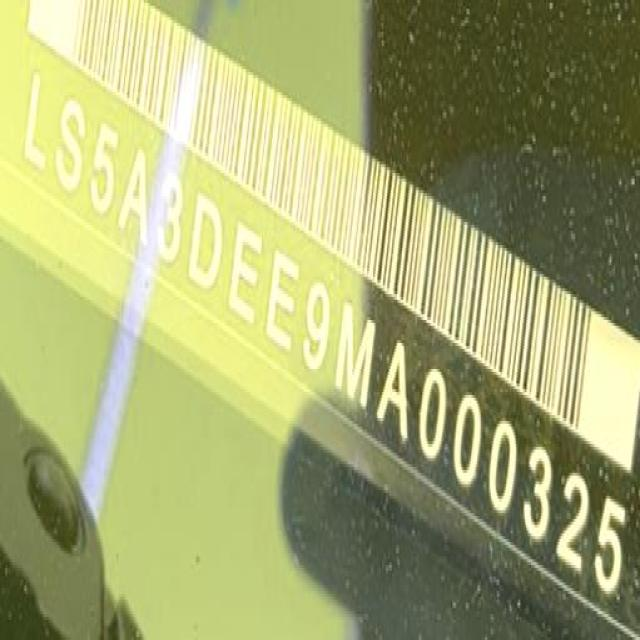0: (451, 389, 484, 491), (488, 418, 518, 514), (419, 367, 448, 462)
2: (555, 461, 591, 579)
3: (520, 443, 553, 544), (155, 176, 182, 266)
5: (593, 494, 627, 600), (90, 124, 119, 217)
9: (302, 278, 330, 377)
A: (374, 335, 410, 440), (119, 143, 148, 249)
D: (188, 195, 222, 292)
E: (227, 218, 264, 329), (264, 247, 298, 348)
L: (25, 68, 45, 179)
M: (335, 301, 376, 409)
S: (54, 96, 88, 199)
